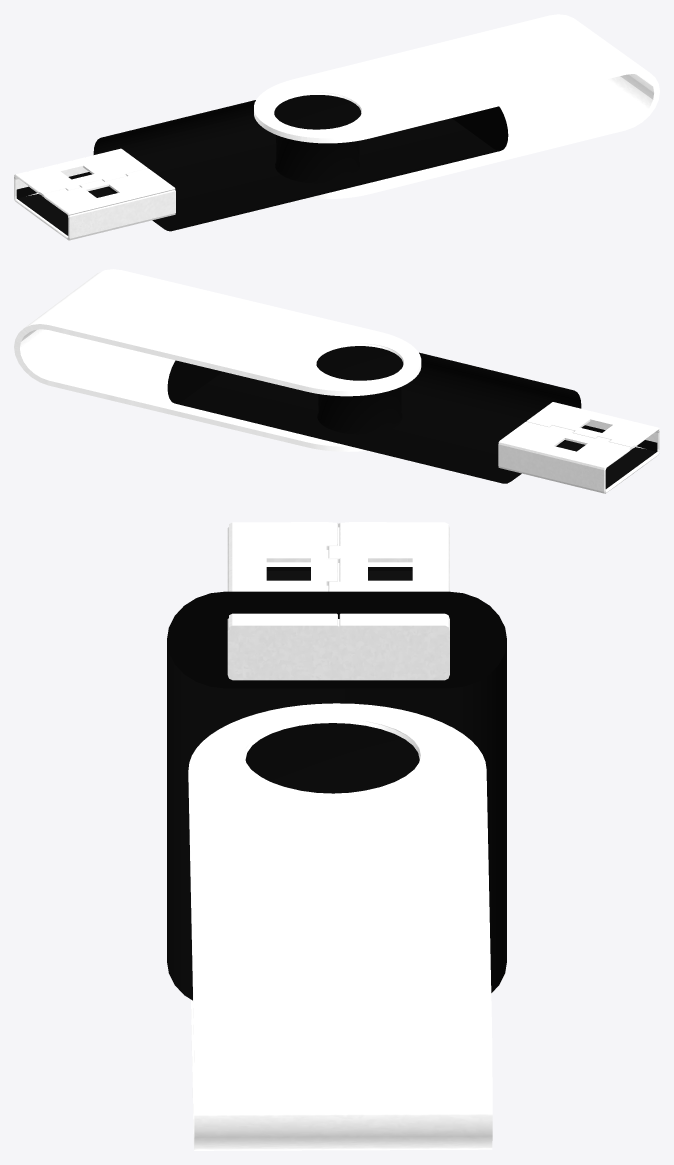
Rendered from usb.glb.
3 renders of one model, top to bottom at view 1: azimuth 30°, elevation 25°; view 2: azimuth 150°, elevation 25°; view 3: azimuth 270°, elevation 25°, orthographic. The views are drawn at different scales.
Parts seen in each view (by area): view 1: Object_12, Object_4, Object_6, Object_8; view 2: Object_12, Object_4, Object_6, Object_8; view 3: Object_12, Object_4, Object_6, Object_8.
Part boxes in pixels (x1,y1,x2,y2): Object_12: [254, 14, 659, 198]; Object_4: [93, 95, 508, 231]; Object_6: [14, 148, 175, 240]; Object_8: [16, 172, 117, 235]; Object_12: [14, 269, 421, 451]; Object_4: [167, 346, 581, 483]; Object_6: [498, 402, 659, 493]; Object_8: [556, 425, 657, 488]; Object_12: [188, 703, 492, 1150]; Object_4: [167, 591, 506, 1000]; Object_6: [227, 522, 449, 680]; Object_8: [266, 567, 412, 580].
Bounding box in the file's own units: 2.98 × 0.2973 × 0.7563.
Materials: 4 (2 with a texture image).
